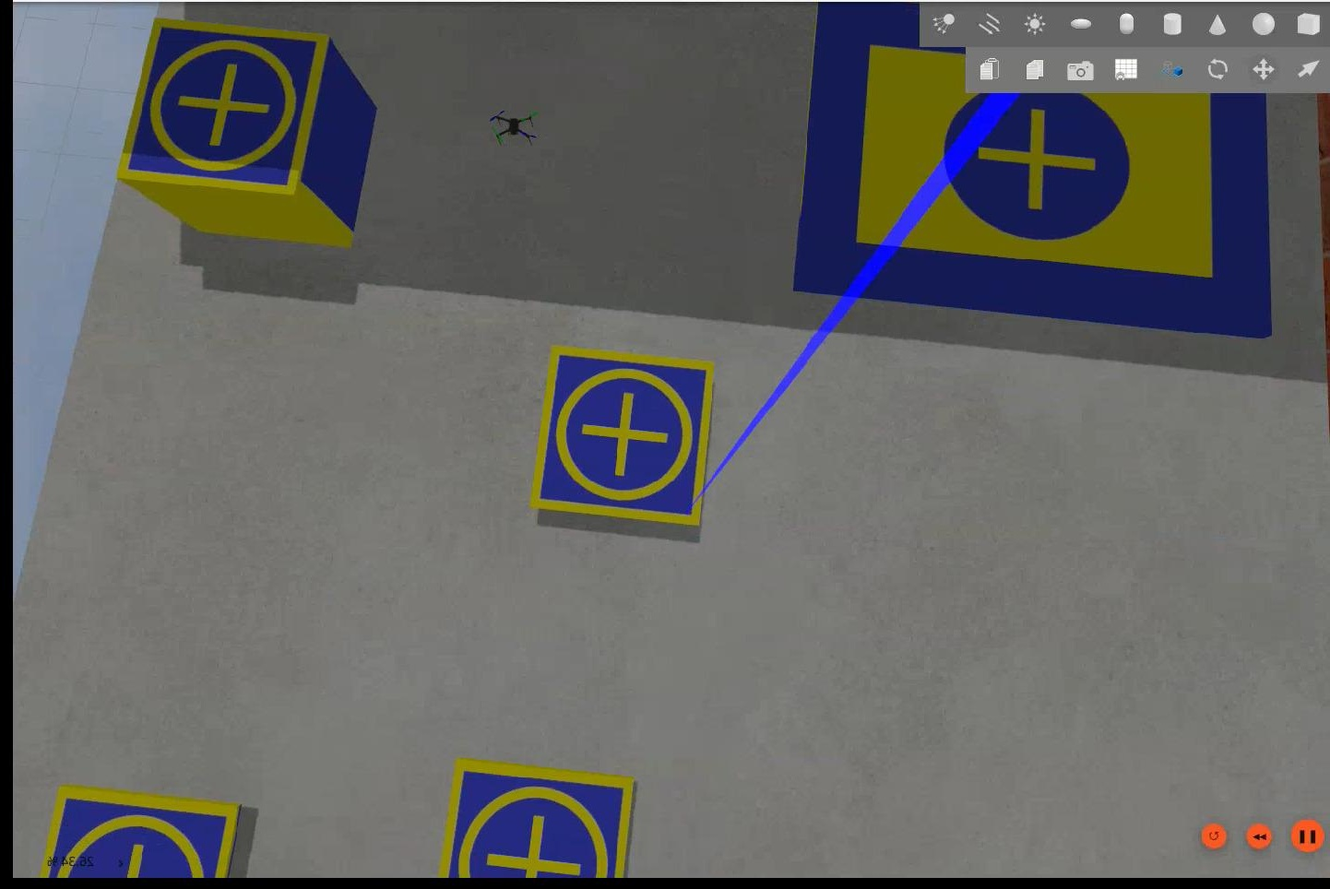large_base: (789, 1, 1273, 341)
small_base: (112, 14, 335, 196), (525, 341, 718, 534), (441, 756, 634, 879), (30, 790, 241, 880)
